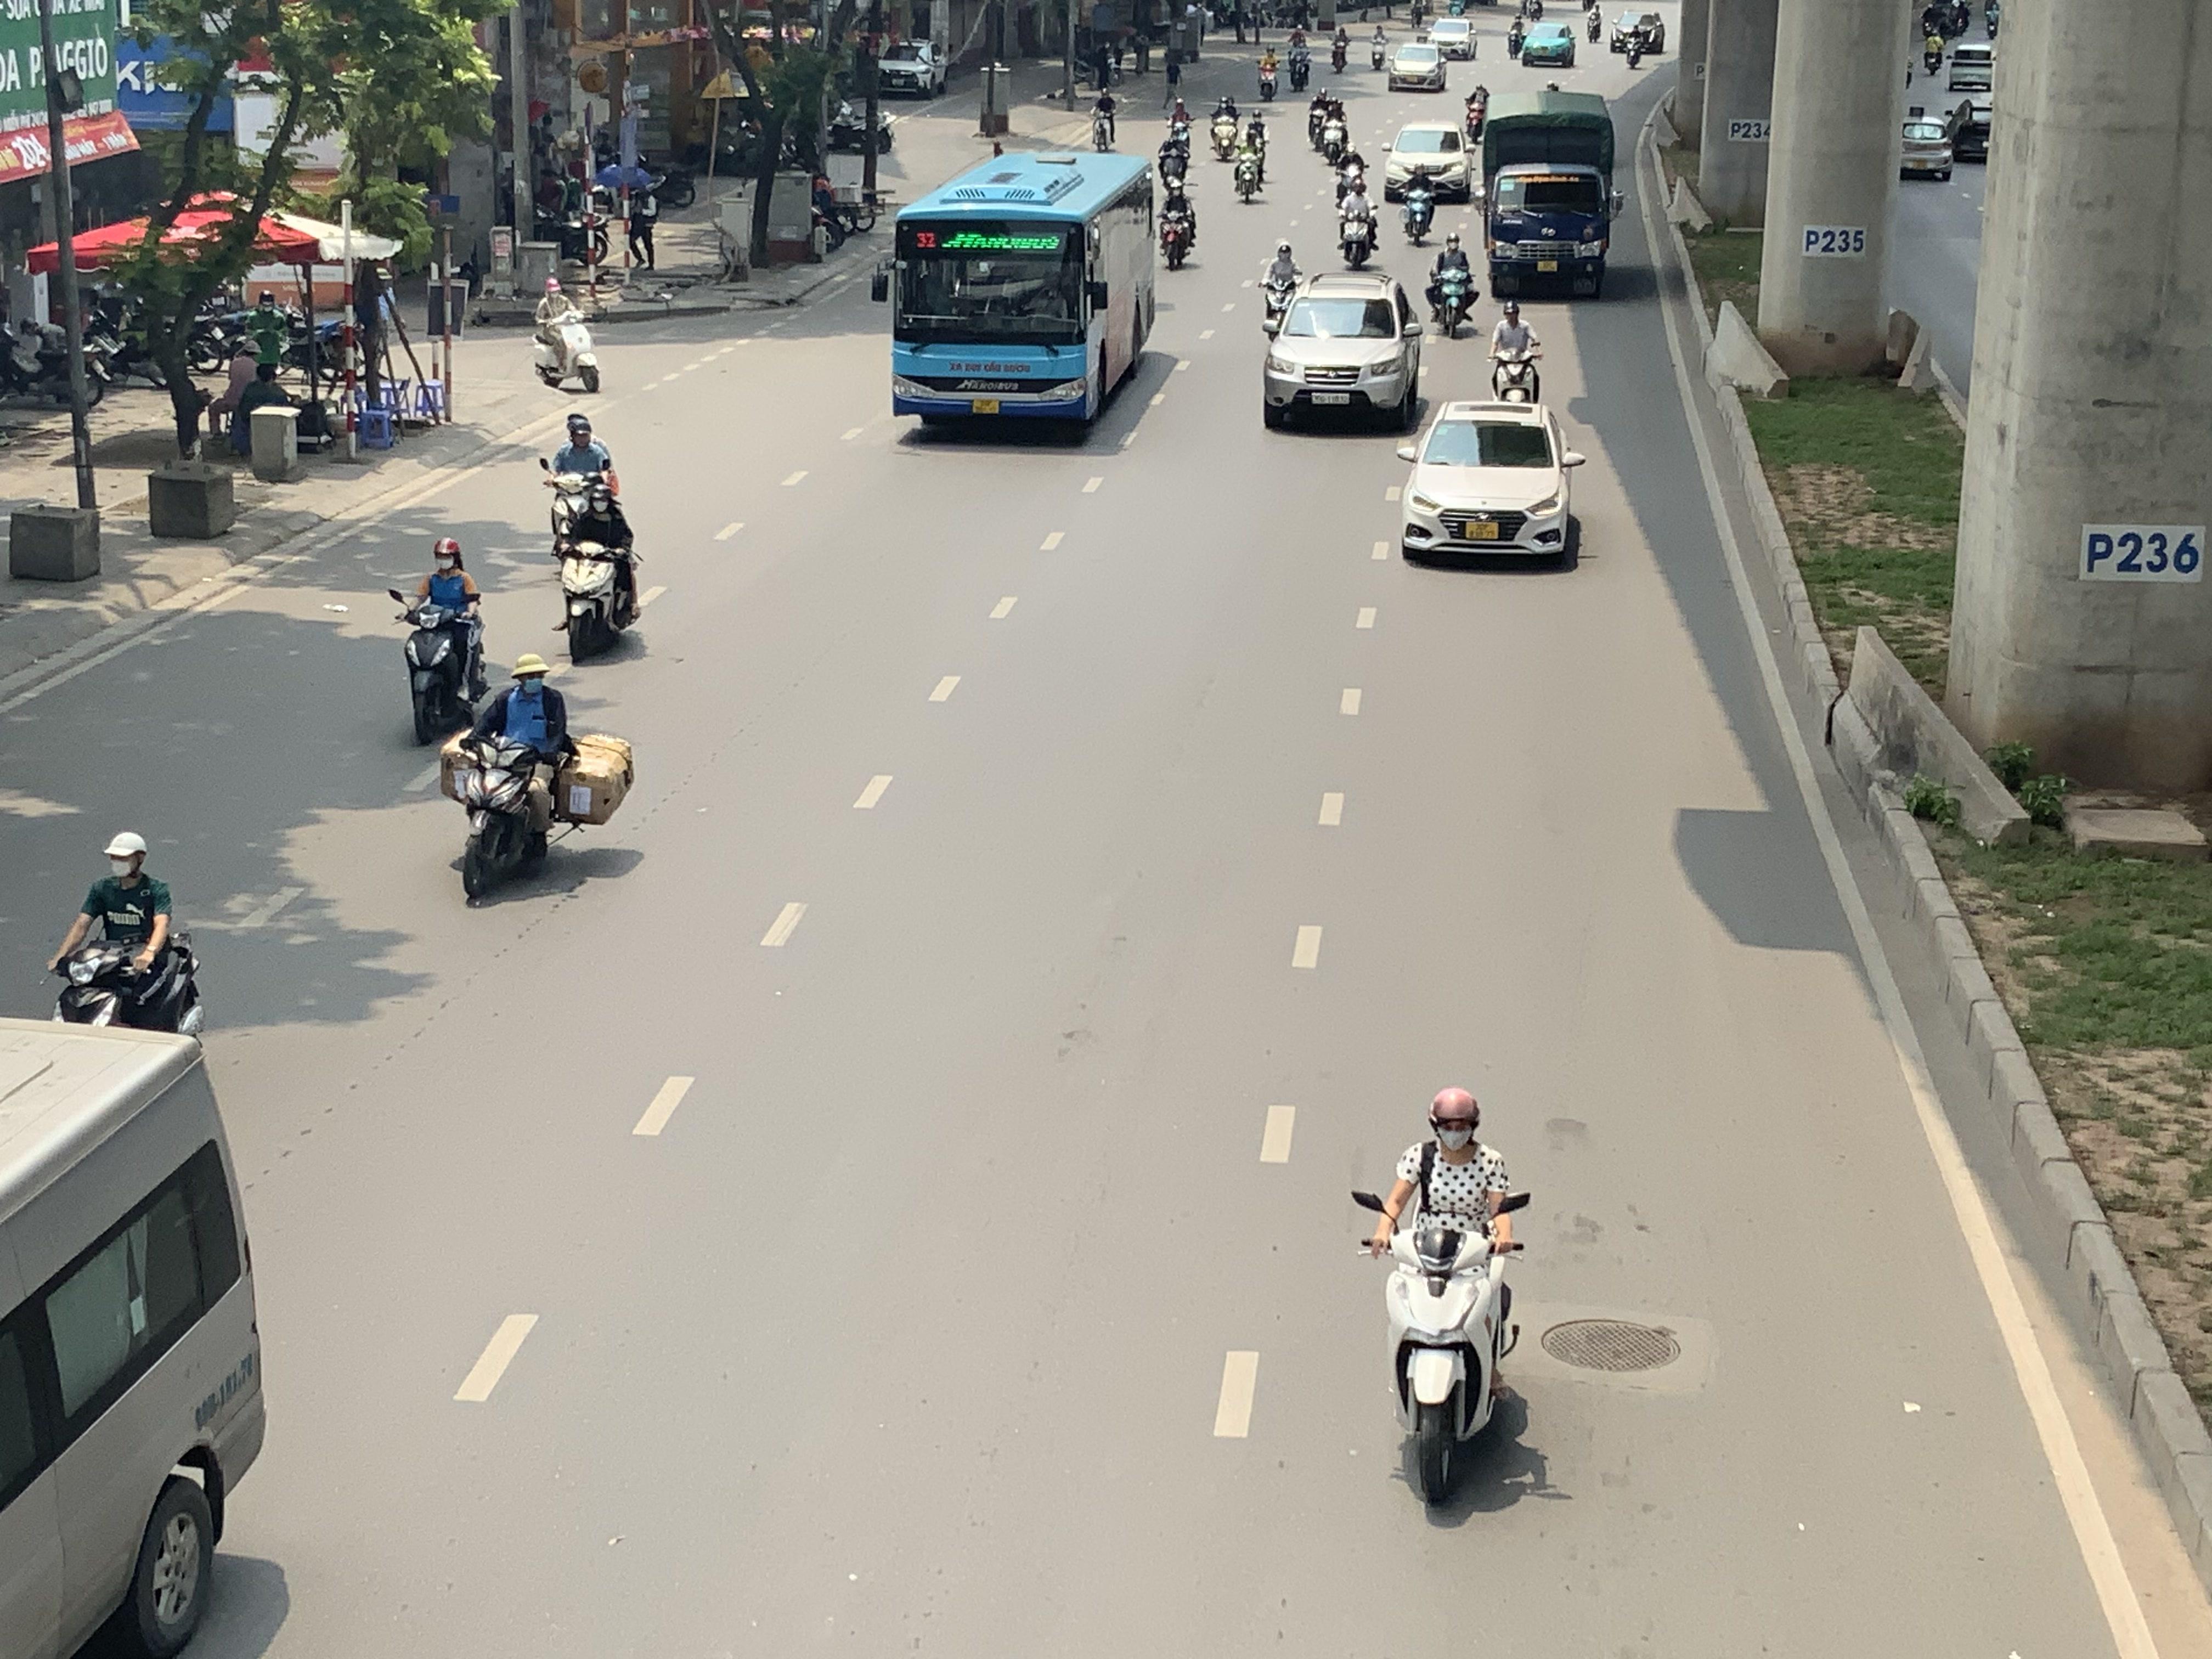BSD: (1312, 392, 1350, 404)
BSV: (1465, 521, 1500, 540)
bus: (885, 148, 1160, 436)
car: (1395, 399, 1588, 570), (1261, 272, 1426, 434), (1381, 120, 1475, 202), (1900, 105, 1956, 181), (876, 38, 948, 98), (1388, 42, 1447, 92), (1519, 19, 1576, 68), (1426, 14, 1477, 61)
motorbike: (1353, 1086, 1529, 1513), (444, 650, 601, 906), (47, 831, 204, 1035), (394, 538, 491, 748), (552, 479, 643, 664), (540, 411, 622, 551), (531, 277, 601, 392), (1487, 301, 1543, 406), (1426, 232, 1479, 338), (1258, 240, 1305, 335), (1336, 179, 1379, 272), (1158, 176, 1198, 270), (1400, 169, 1437, 247), (1155, 120, 1195, 192), (1231, 129, 1268, 202), (1205, 94, 1240, 162), (1317, 96, 1350, 164), (1334, 141, 1367, 209), (1089, 84, 1118, 152), (1284, 31, 1313, 94), (1463, 82, 1491, 145), (1256, 45, 1282, 103), (1329, 21, 1352, 73)
truck: (1475, 91, 1623, 298)
